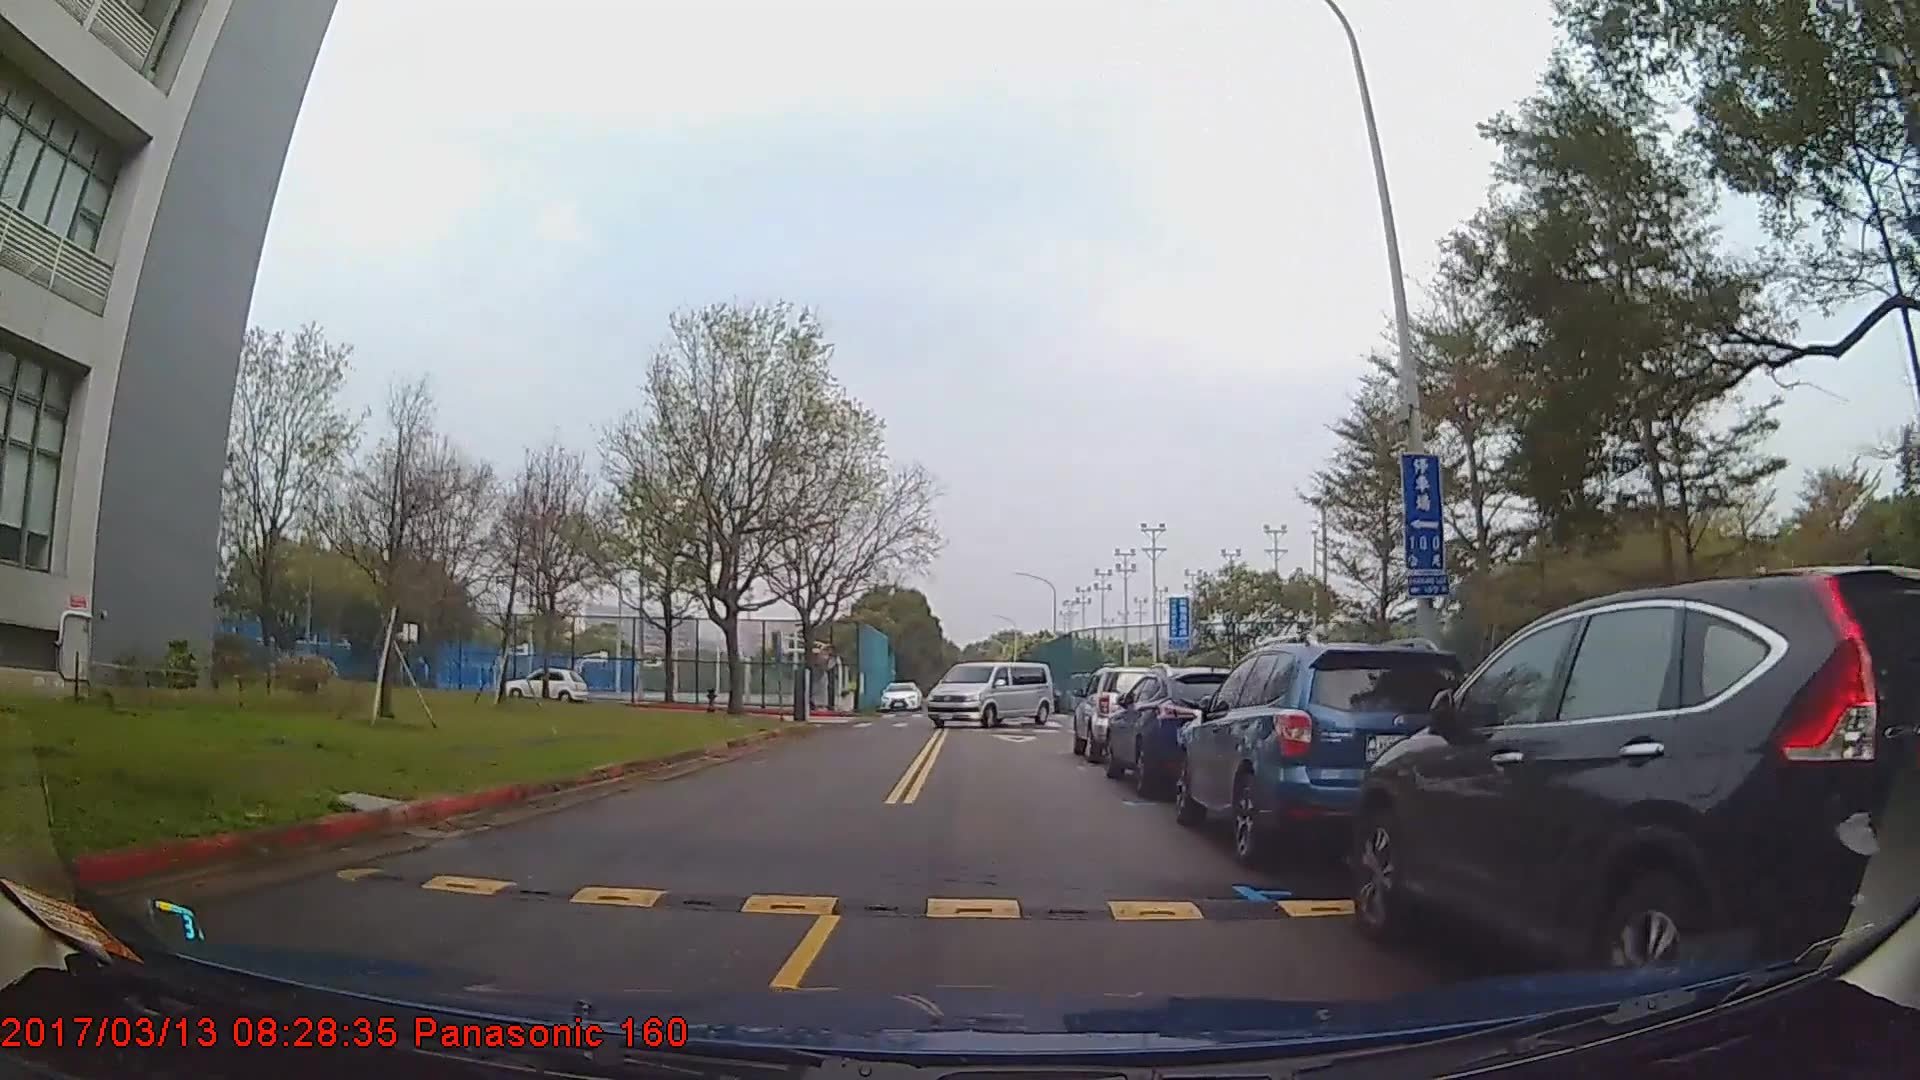vehicle: (1348, 562, 1920, 1004), (1170, 641, 1472, 857), (1102, 661, 1257, 793), (1071, 662, 1166, 760), (923, 658, 1054, 728), (505, 663, 587, 705), (877, 679, 920, 709)
